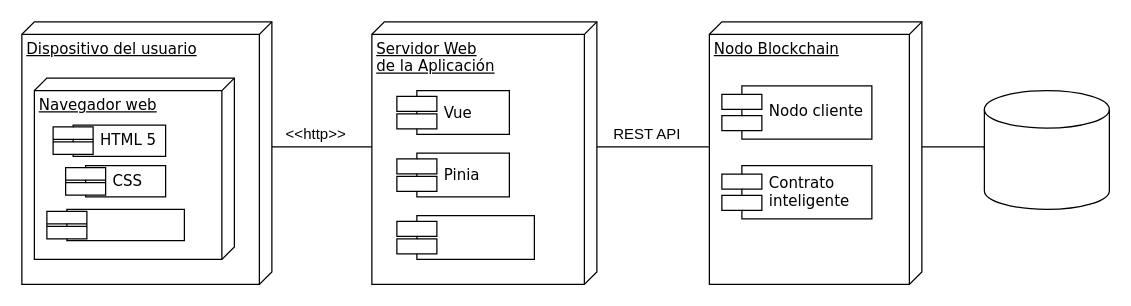
This 1131x306 diagram has some shape labels left out. Each missing label, with the centre of its shape:
"Base de Datos de los Usuarios Gestores" goes at (x=1046, y=149).
"JavaScript" goes at (x=115, y=224).
"Typescript" goes at (x=465, y=236).
